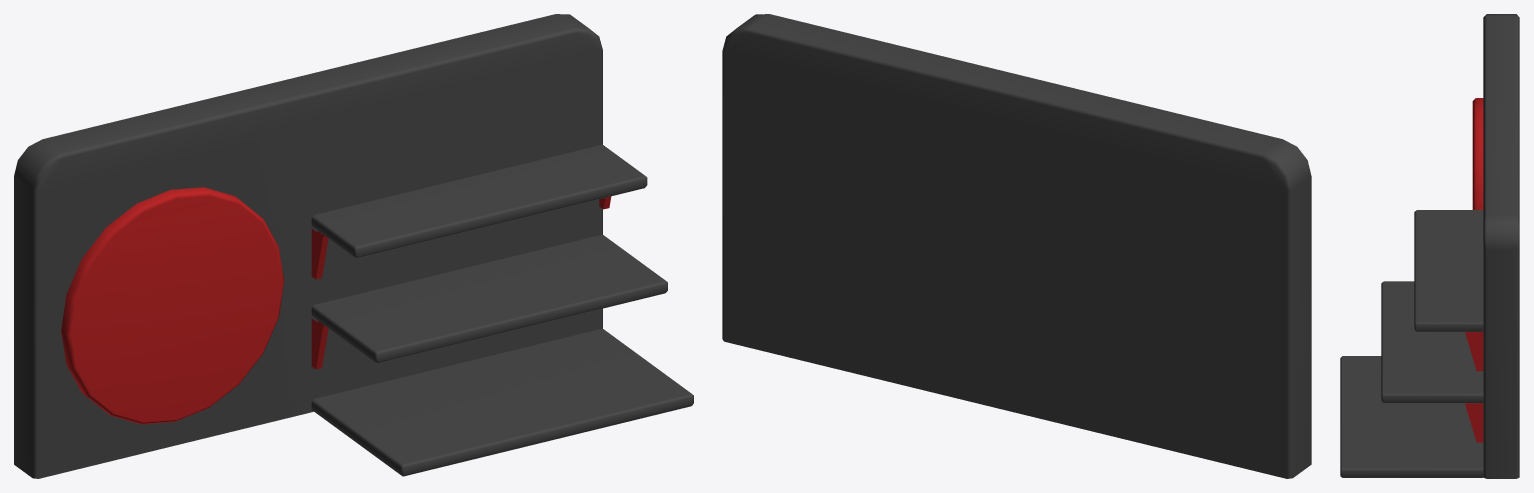
File: Kedecap3x.fbx
3 renders of one model, left to right at view 1: azimuth 30°, elevation 25°; view 2: azimuth 150°, elevation 25°; view 3: azimuth 270°, elevation 25°, orthographic. The views are drawn at different scales.
Parts seen in each view (by area): view 1: Kedecap3x; view 2: Kedecap3x; view 3: Kedecap3x.
Part boxes in pixels (left/top/right/bottom): Kedecap3x: left=14, top=14, right=693, bottom=478; Kedecap3x: left=722, top=14, right=1311, bottom=478; Kedecap3x: left=1340, top=14, right=1519, bottom=478.
Bounding box in the file's own units: 984 × 525 × 338.
